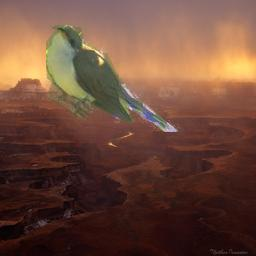Cuckoo: (47, 26, 180, 133)
